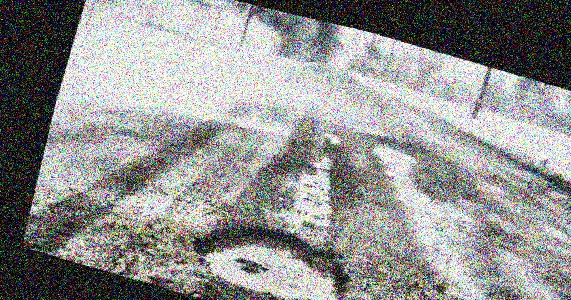pothole: (177, 201, 366, 300)
